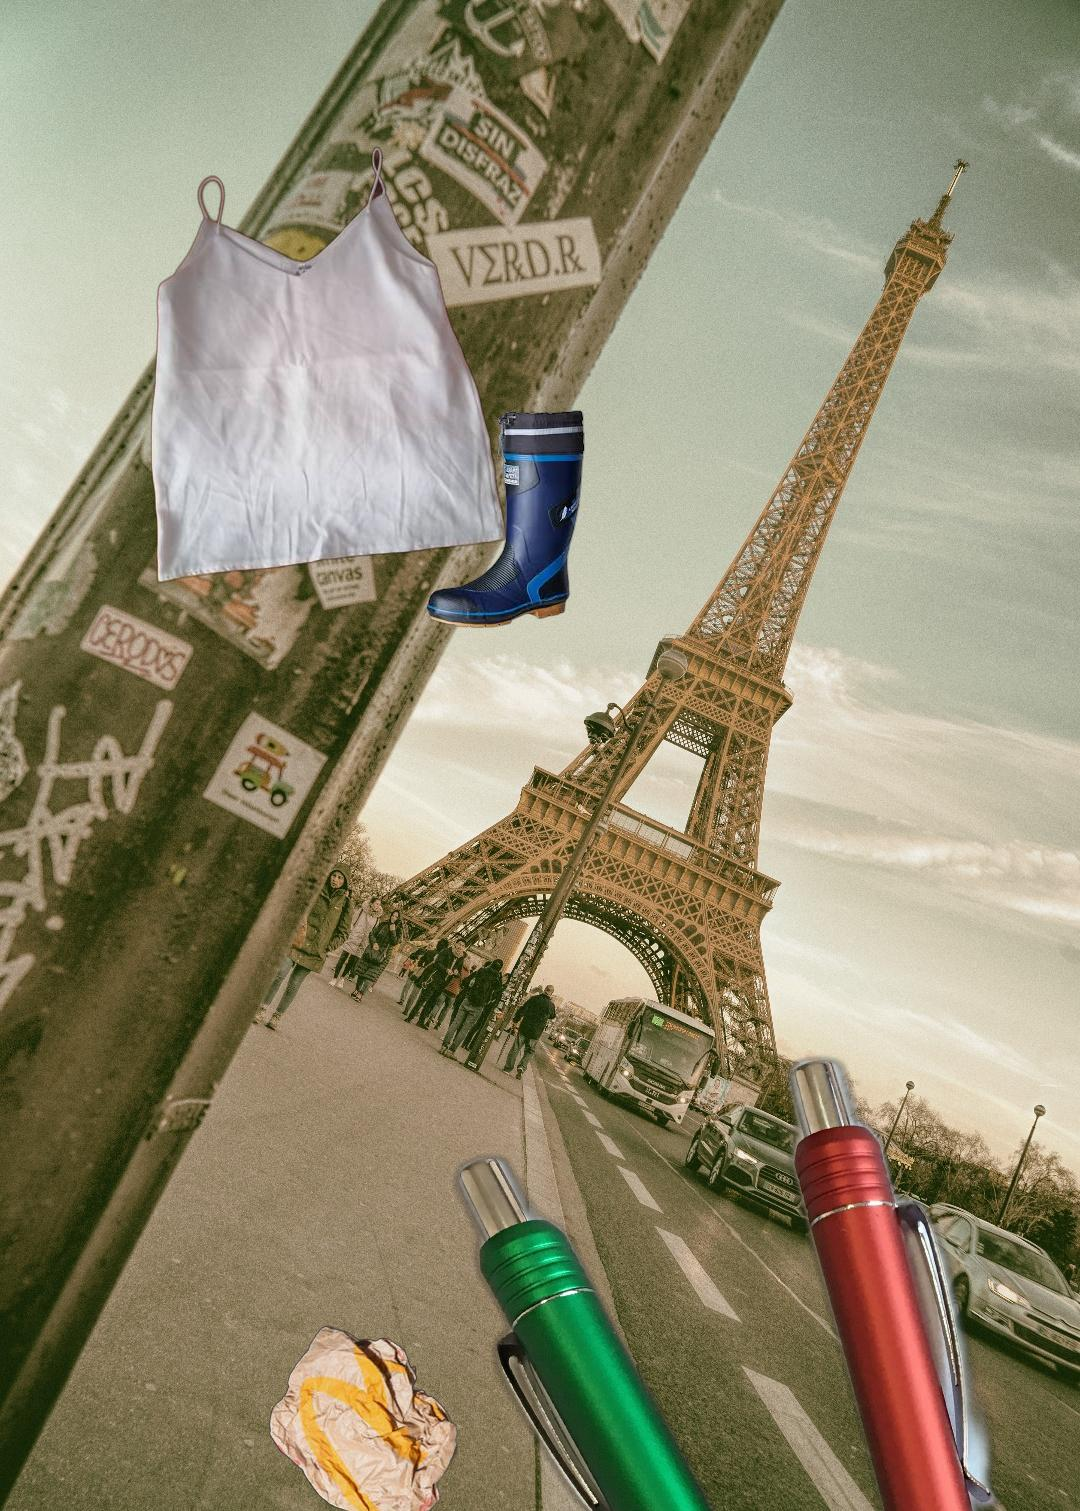clothes: (147, 143, 508, 588)
paper-bag: (268, 1325, 461, 1511)
penholder: (439, 1018, 1080, 1511)
shoes: (424, 408, 587, 631)
